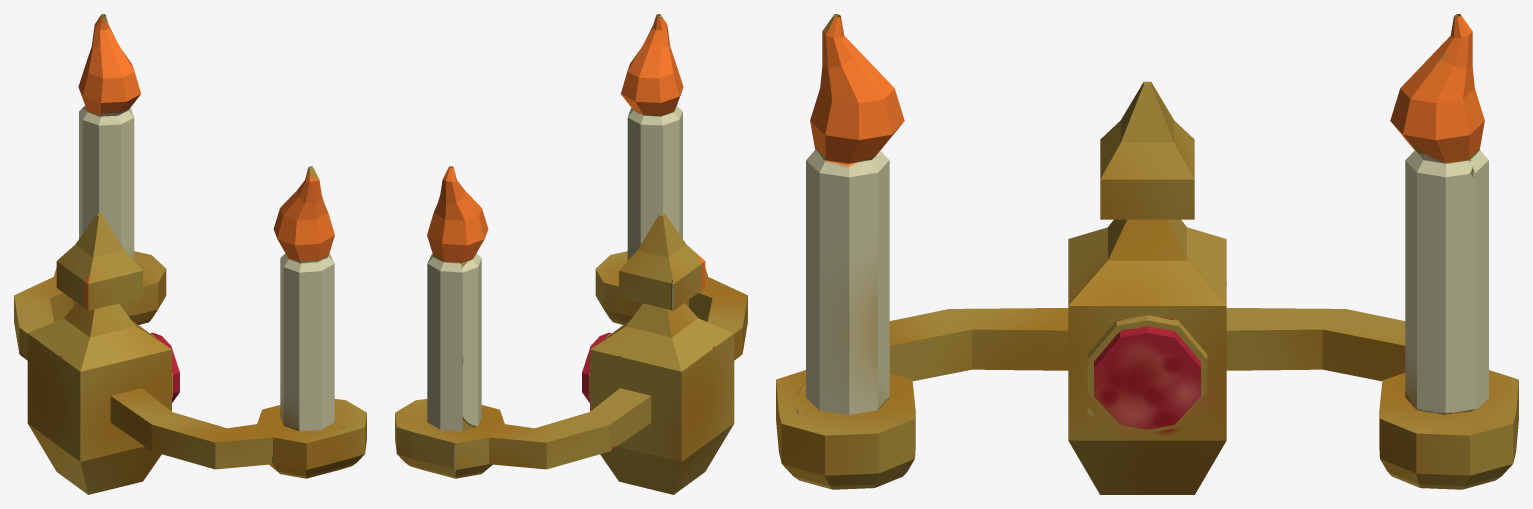
The model's file is candle.fbx.
The picture shows the model from 3 angles, left to right: view 1: azimuth 30°, elevation 25°; view 2: azimuth 150°, elevation 25°; view 3: azimuth 270°, elevation 25°; orthographic projection. The views are drawn at different scales.
Visible parts, largest first — view 1: Cube; view 2: Cube; view 3: Cube.
Part boxes in pixels (<box>): Cube: <box>14,14,366,494</box>; Cube: <box>395,14,747,494</box>; Cube: <box>776,14,1518,494</box>.
Size of the model in its own units: 261 by 438 by 548.
